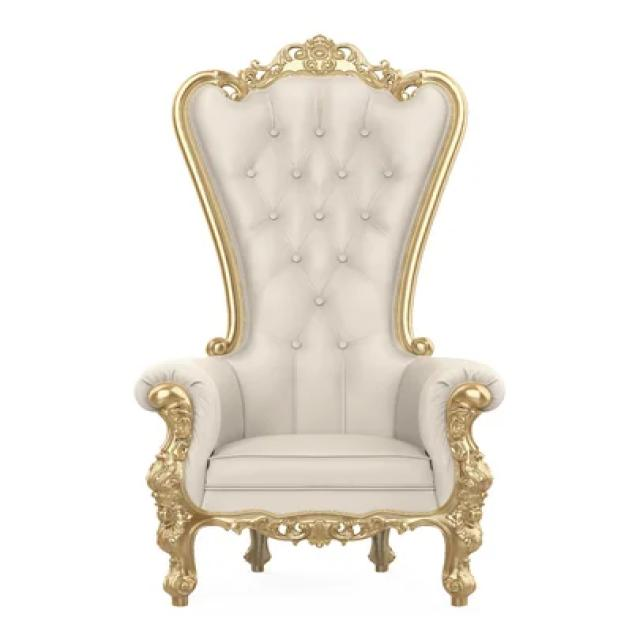obstacle: (108, 29, 503, 624)
